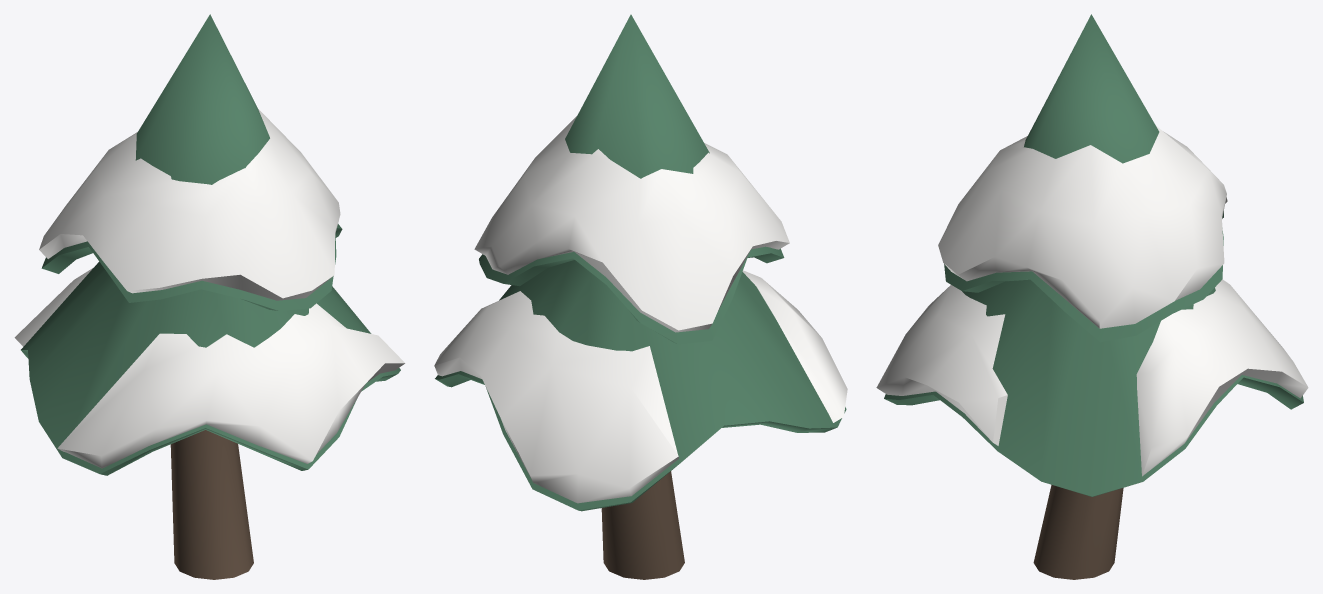
The model's file is Tree_1.glb.
3 views of the same model, side by side, from view 1: azimuth 30°, elevation 25°; view 2: azimuth 150°, elevation 25°; view 3: azimuth 270°, elevation 25° (orthographic). The views are drawn at different scales.
Visible parts, largest first — view 1: Tree_1; view 2: Tree_1; view 3: Tree_1.
Part boxes in pixels (x1=…): Tree_1: x1=14, y1=14, x2=405, y2=579; Tree_1: x1=434, y1=14, x2=847, y2=579; Tree_1: x1=876, y1=14, x2=1308, y2=579.
Size of the model in its own units: 1.58 by 2.29 by 1.63.
Materials: 1 (1 with a texture image).
